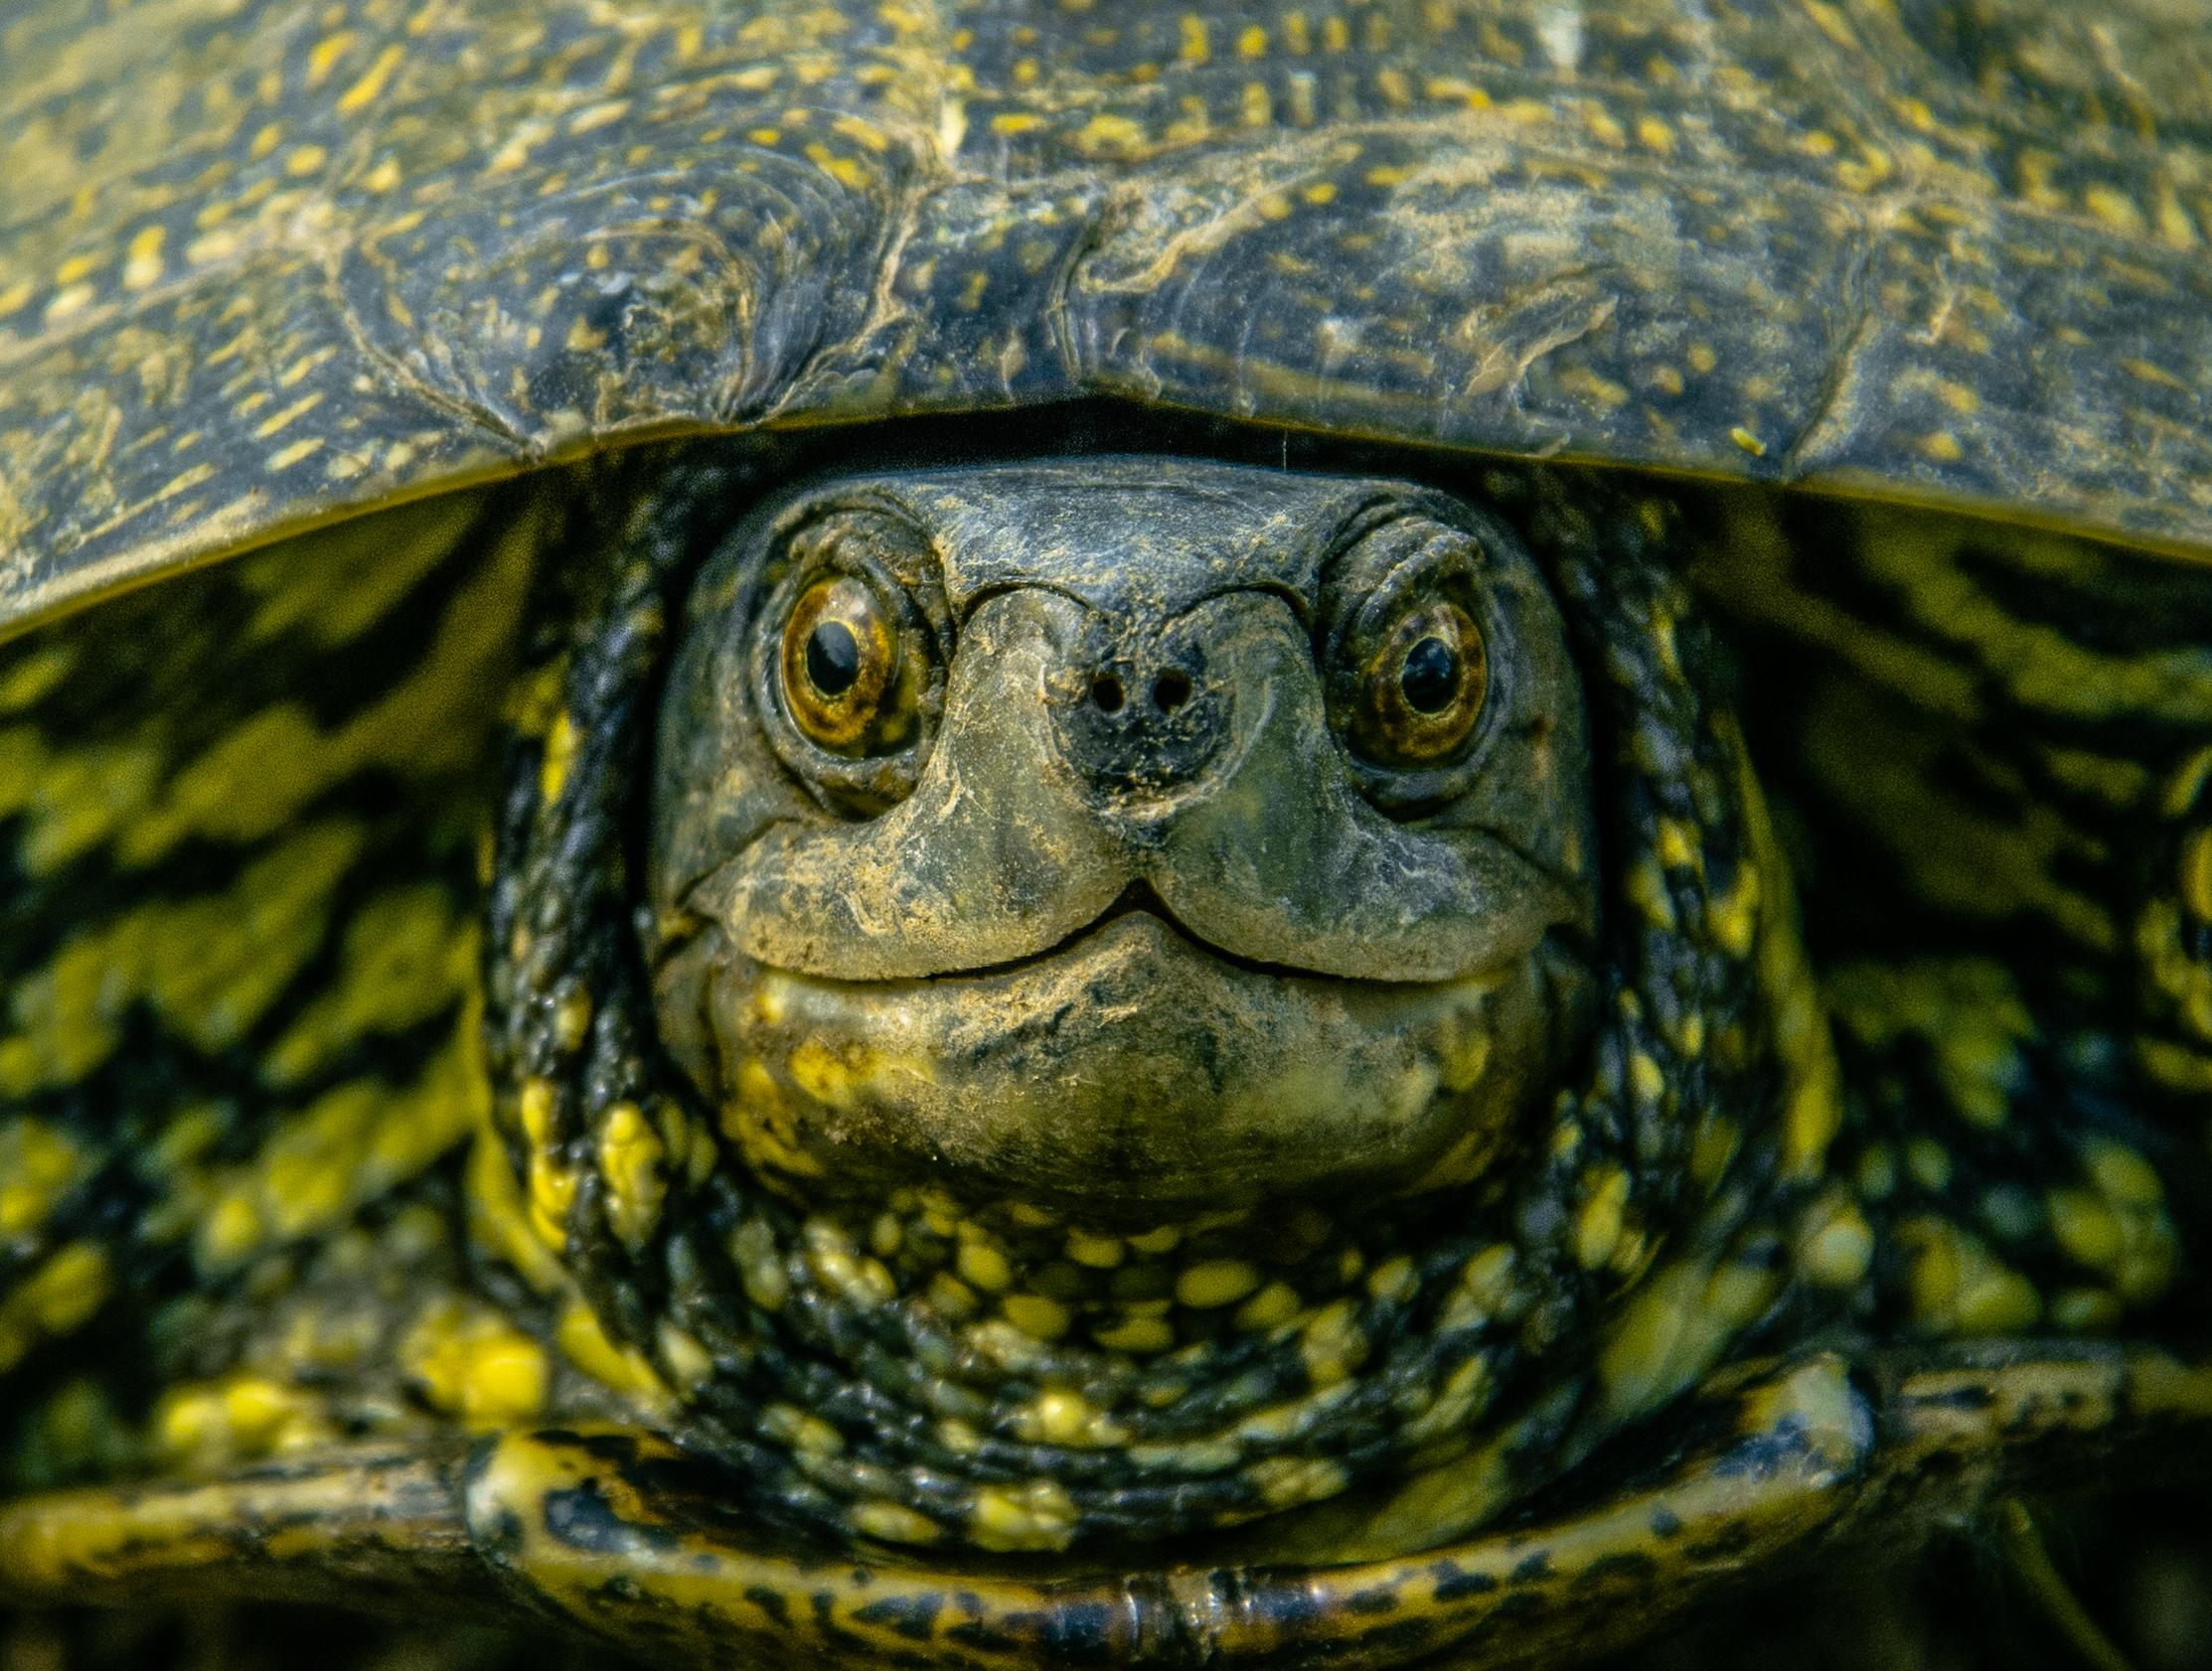eye: (744, 509, 971, 818), (1318, 507, 1527, 816)
mouth: (683, 832, 1533, 1180)
